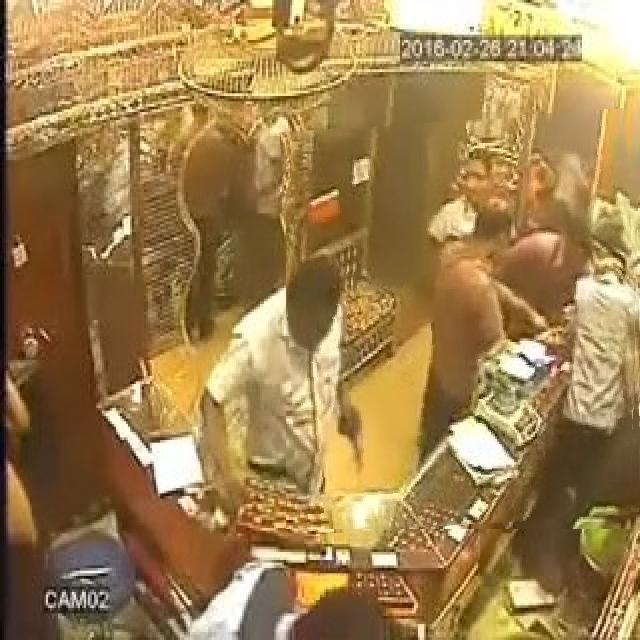Shoplifting: (286, 114, 640, 529)
